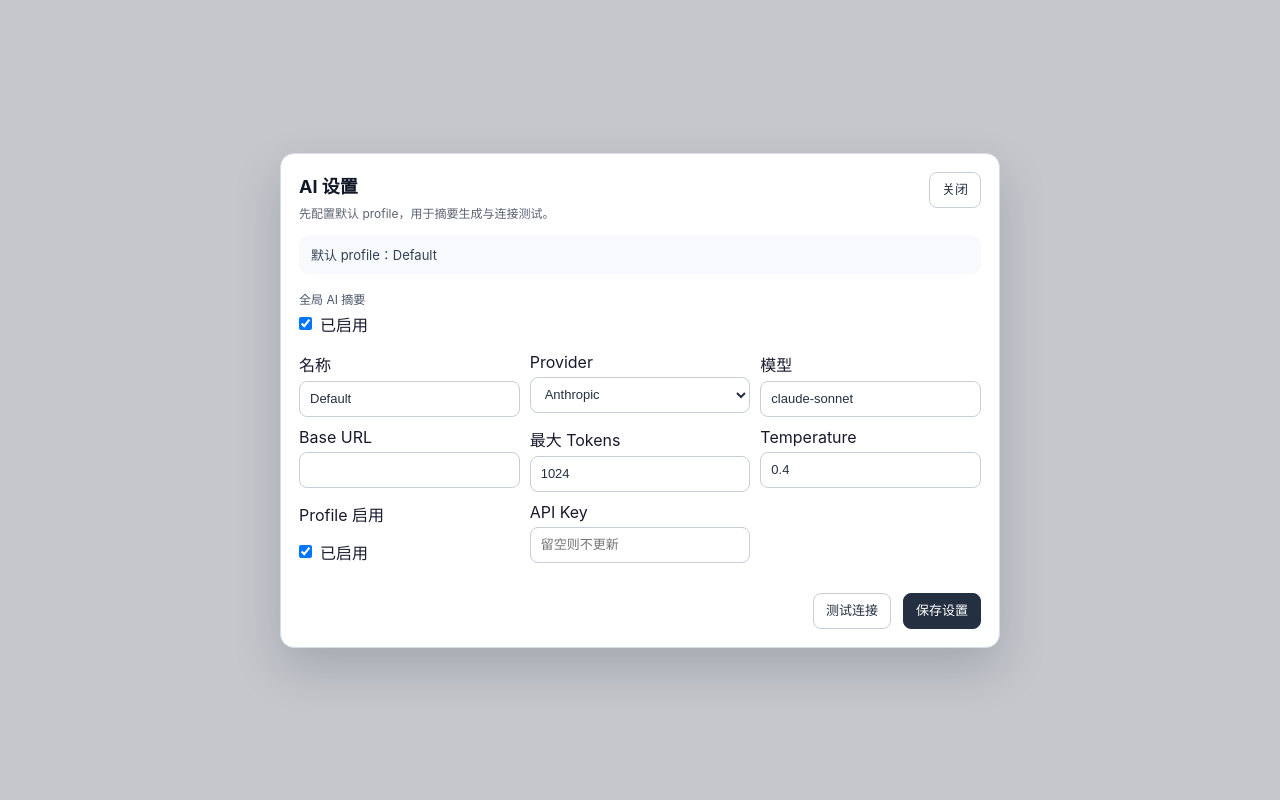
Test: AiSettingsDialog › persists the global AI toggle from the dialog
This screenshot has width=1280, height=800.
Click the checkbox named "全局 AI 摘要开关" at (306, 324), box [299,317,312,330]
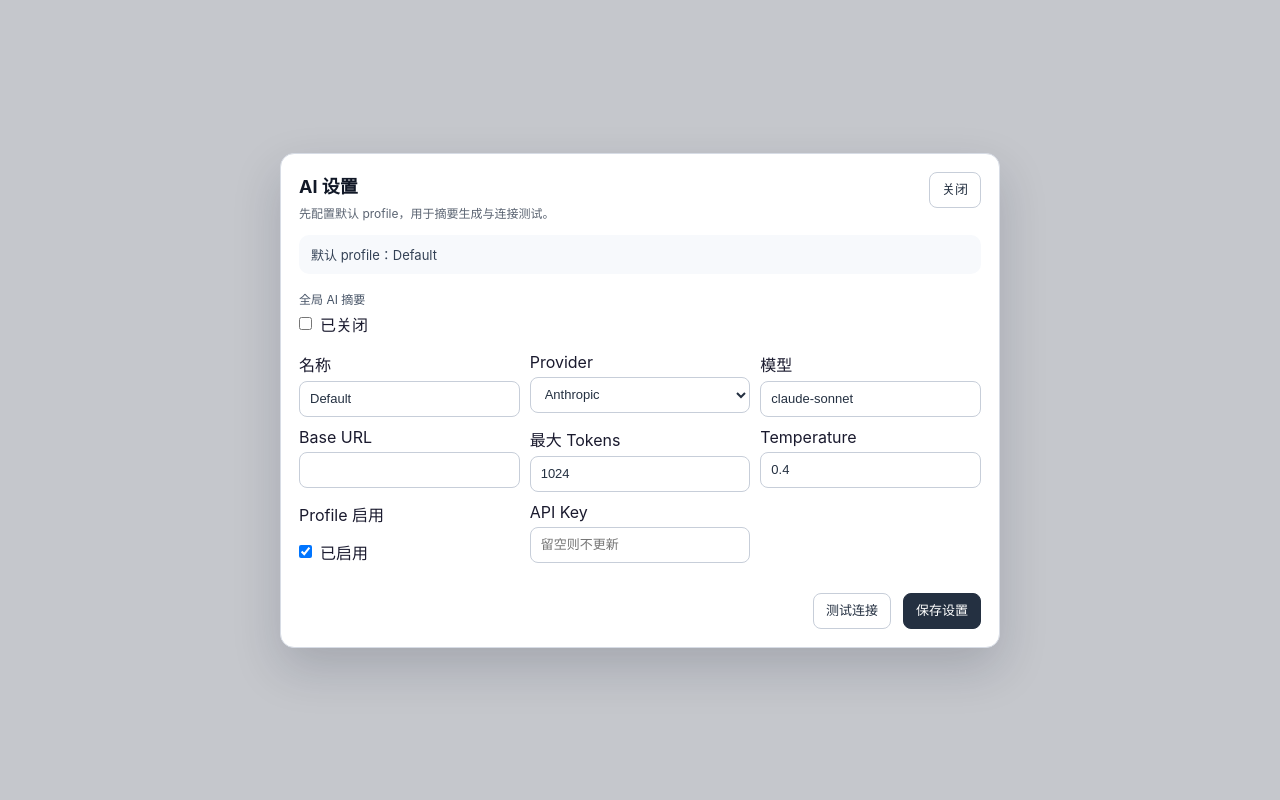
Result: the text "已关闭" is shown at [320,312,368,336]
